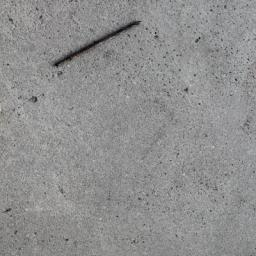FOD: (54, 20, 146, 70)
